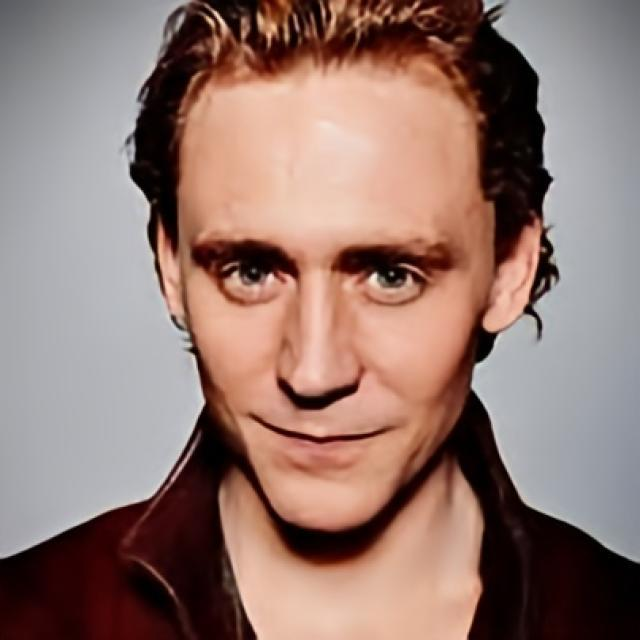content: (180, 44, 498, 535)
